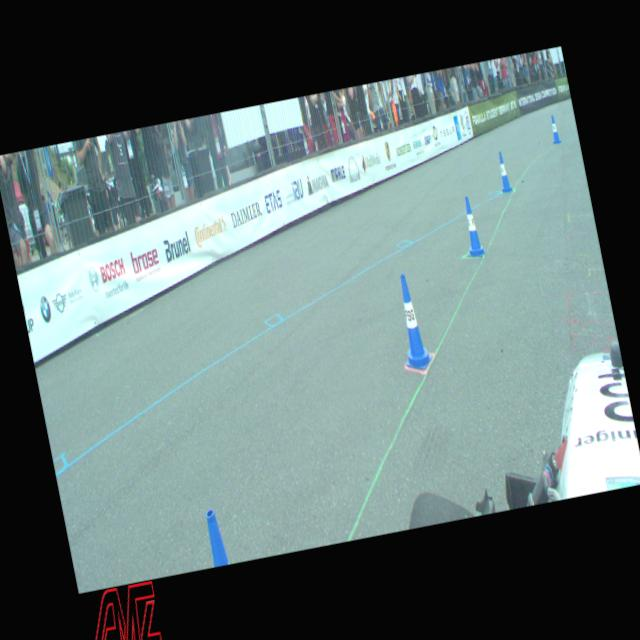blue_cone: (389, 271, 435, 372), (457, 194, 487, 260), (203, 507, 230, 568), (494, 150, 514, 193), (548, 114, 562, 144)
